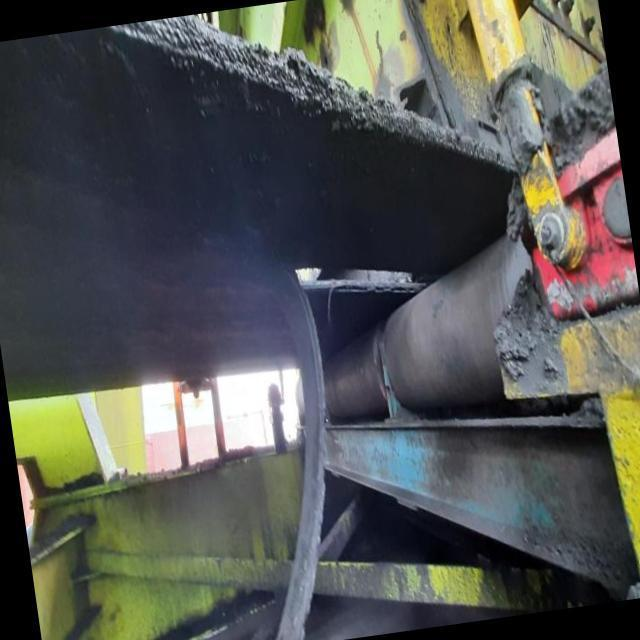Tear: (291, 260, 424, 302)
